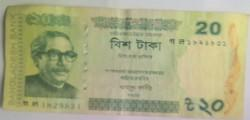20 taka: (7, 8, 244, 117)
